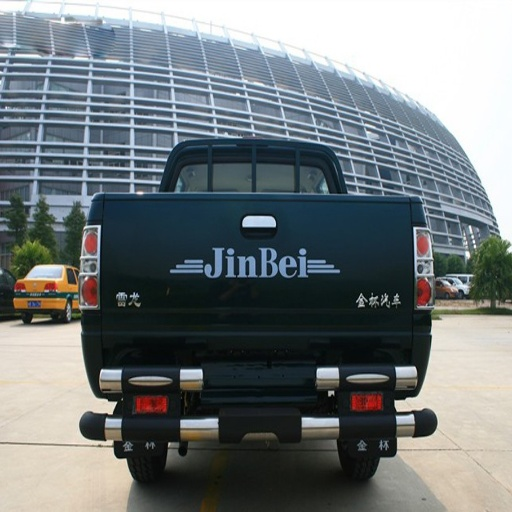trunk: (99, 199, 414, 371)
